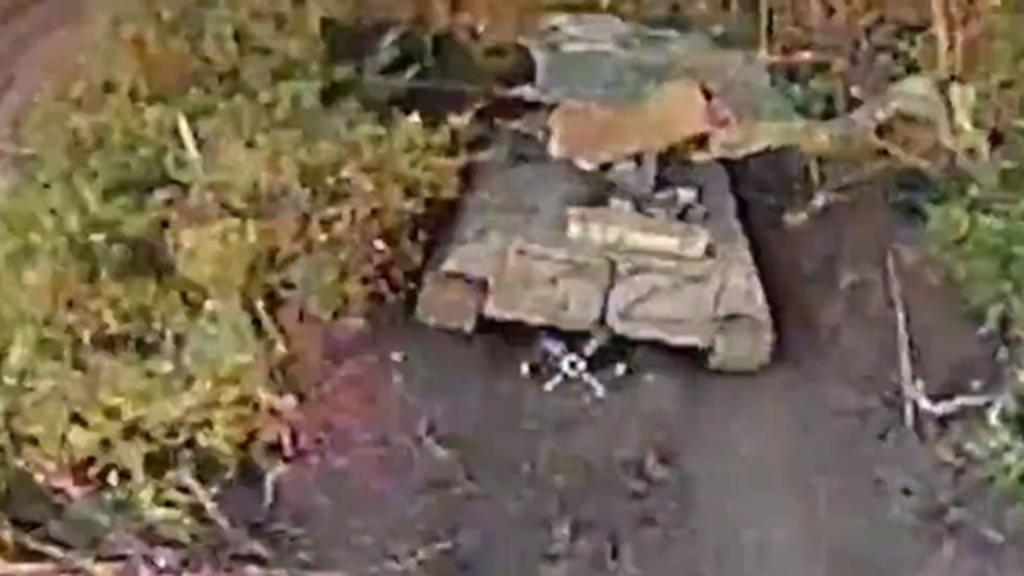APC-IFV: (410, 38, 802, 406)
